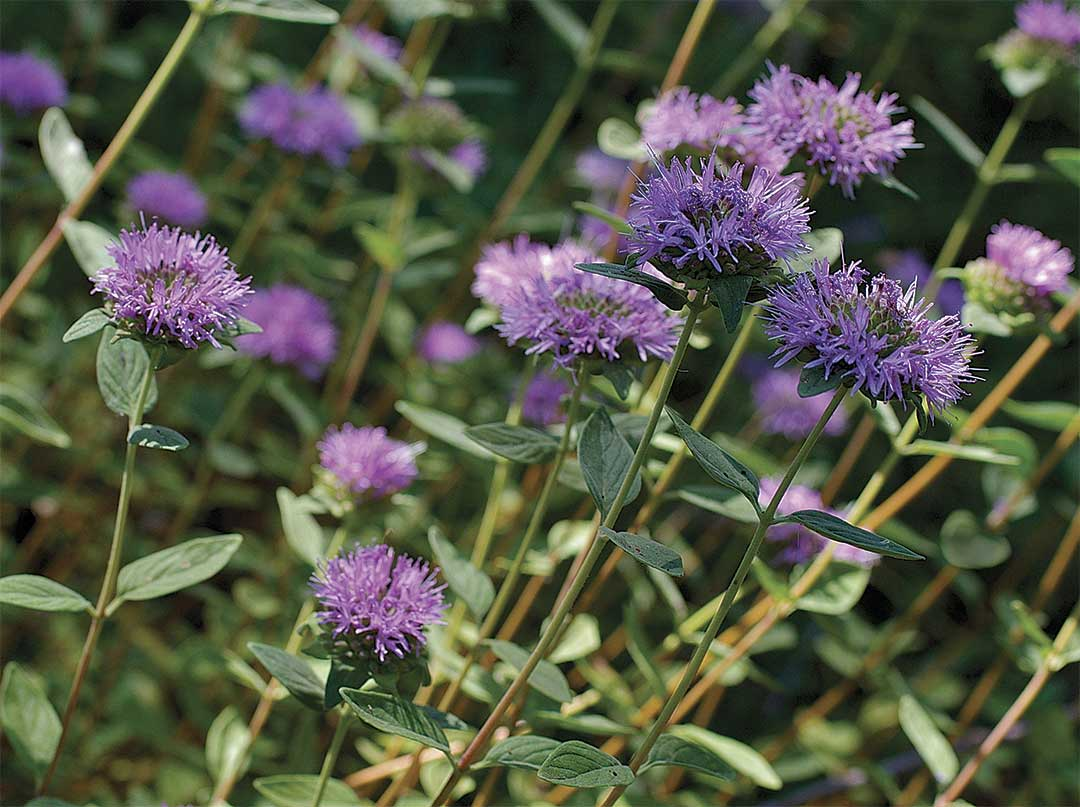thistle: (469, 224, 690, 395), (787, 259, 975, 414), (616, 152, 800, 287), (280, 553, 477, 679), (80, 210, 237, 355), (958, 209, 1070, 350)
